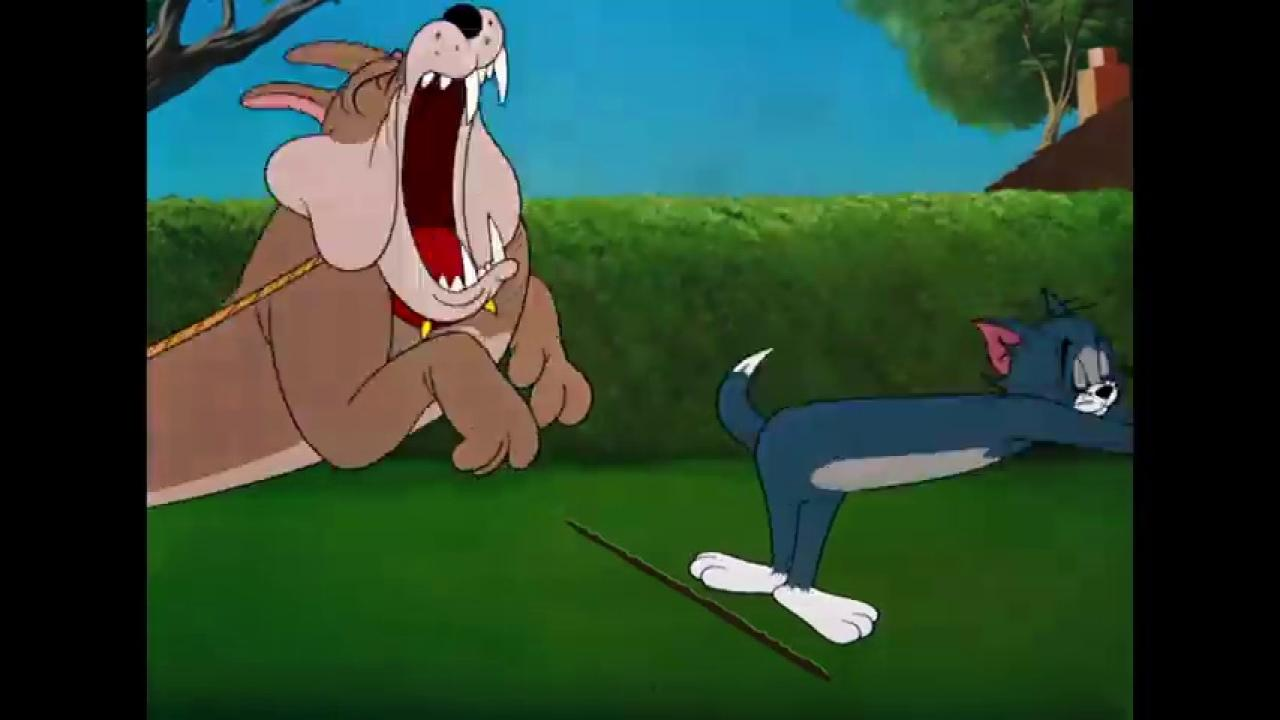Tom: (687, 284, 1132, 649)
